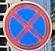No Parking: (4, 3, 52, 51)
